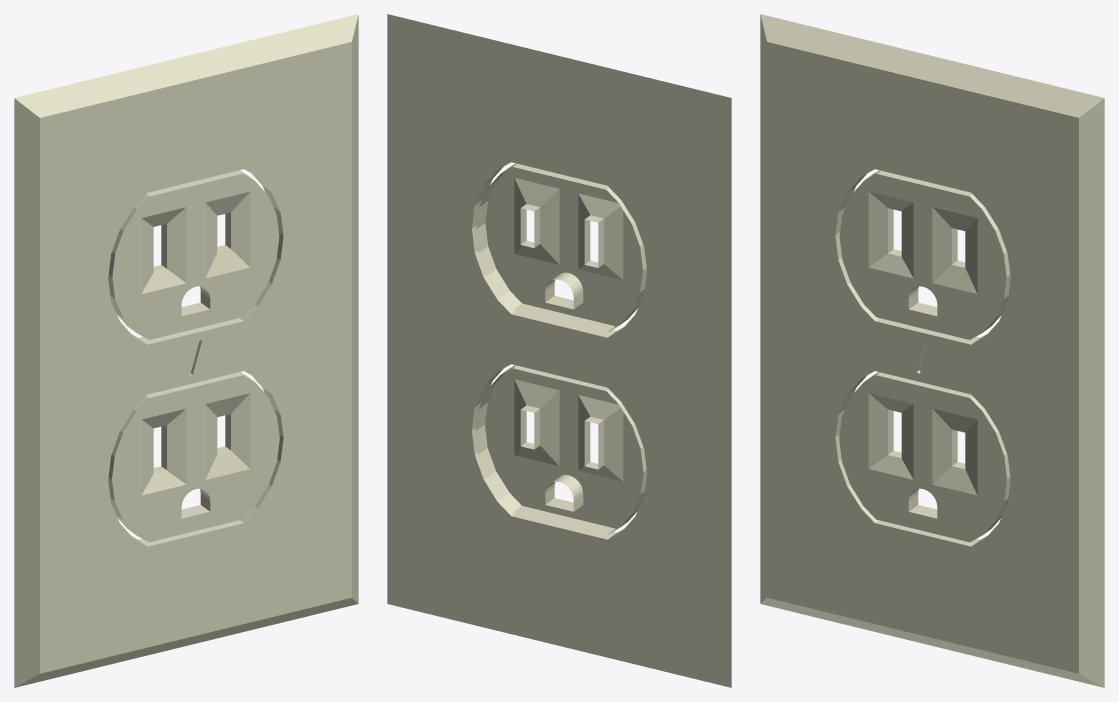
3 views of the same model, side by side, from view 1: azimuth 30°, elevation 25°; view 2: azimuth 150°, elevation 25°; view 3: azimuth 330°, elevation 25° (orthographic).
Visible parts, largest first — view 1: wall plate electrical outlet; view 2: wall plate electrical outlet; view 3: wall plate electrical outlet.
Part boxes in pixels (x1=…): wall plate electrical outlet: x1=14, y1=14, x2=358, y2=687; wall plate electrical outlet: x1=387, y1=14, x2=731, y2=687; wall plate electrical outlet: x1=760, y1=14, x2=1104, y2=687.
Size of the model in its own units: 2.75 by 4.5 by 0.13.
